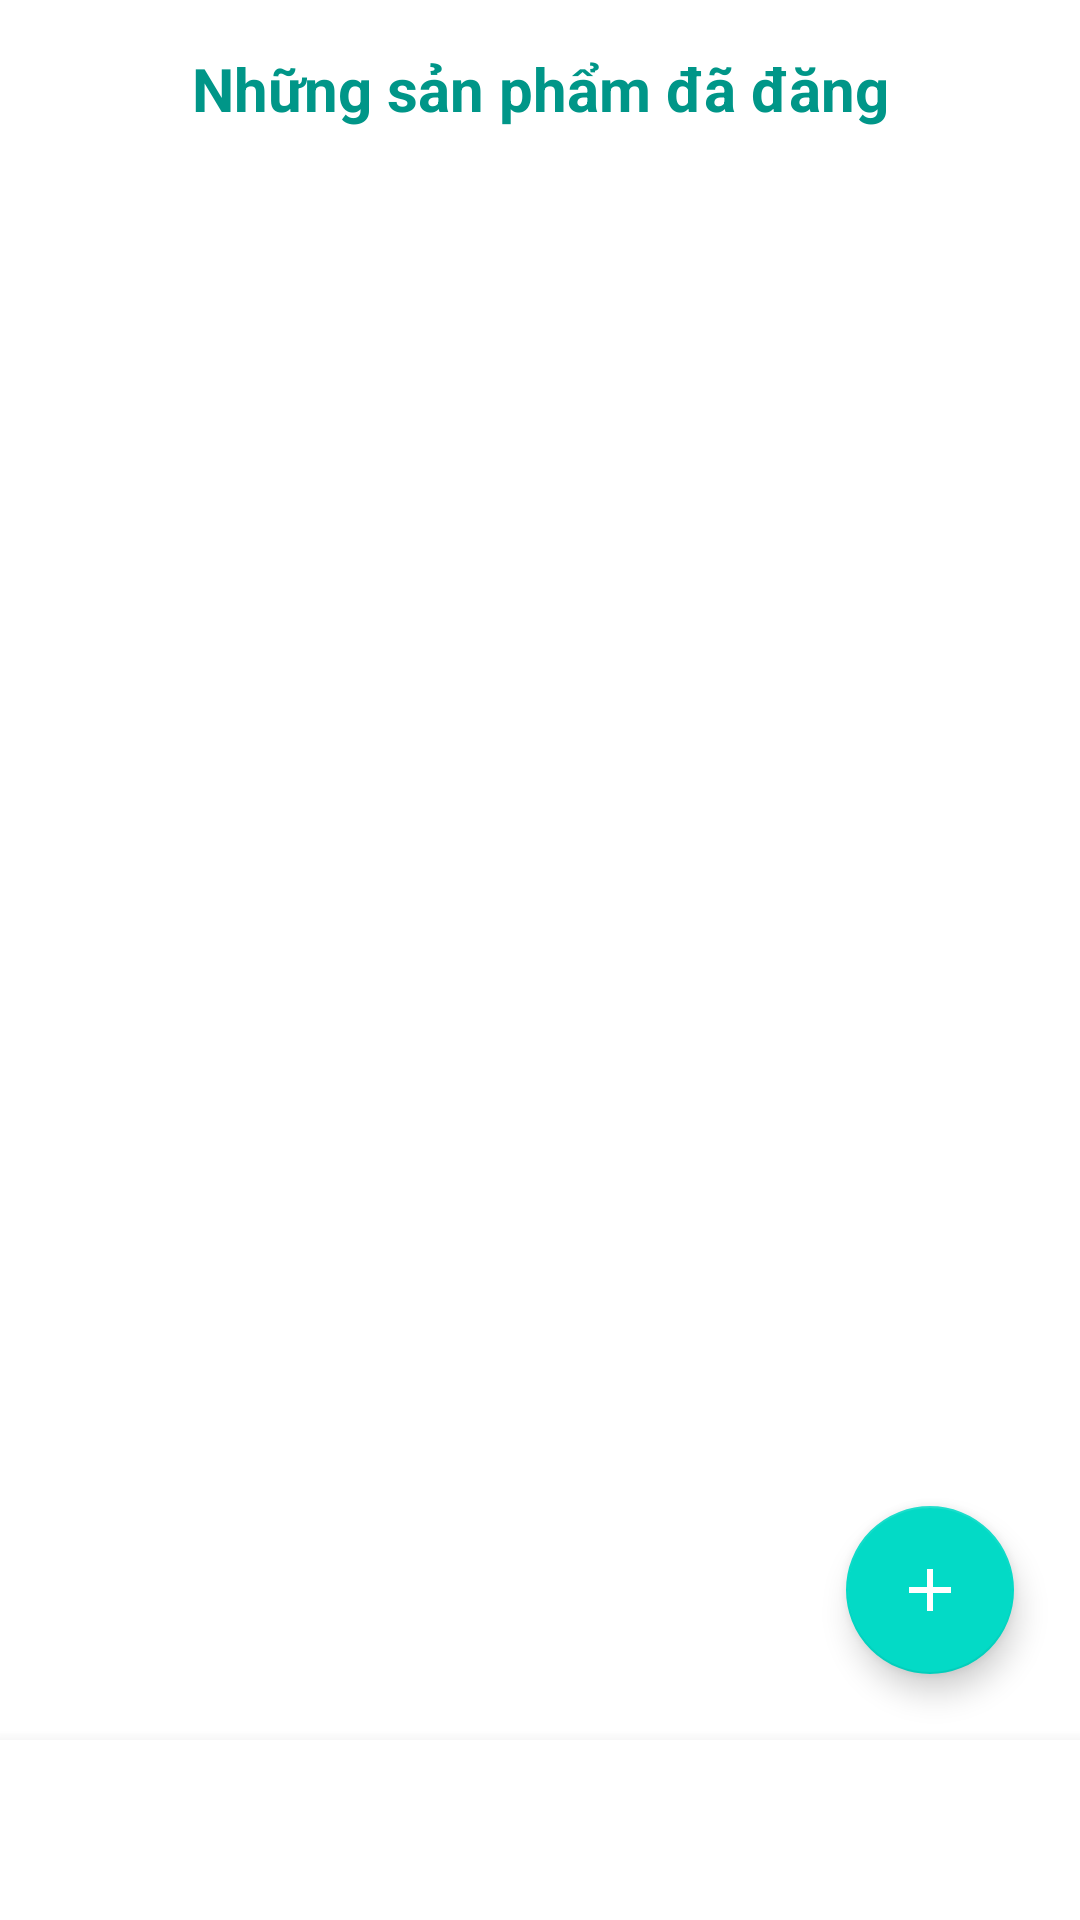

Screen size 1080px×1920px. Icon name, then its box in pixels as [x1=x1, y1=y1, x2=x2, y2=y2]:
Đăng sản phẩm mới: [x1=846, y1=1506, x2=1014, y2=1674]
